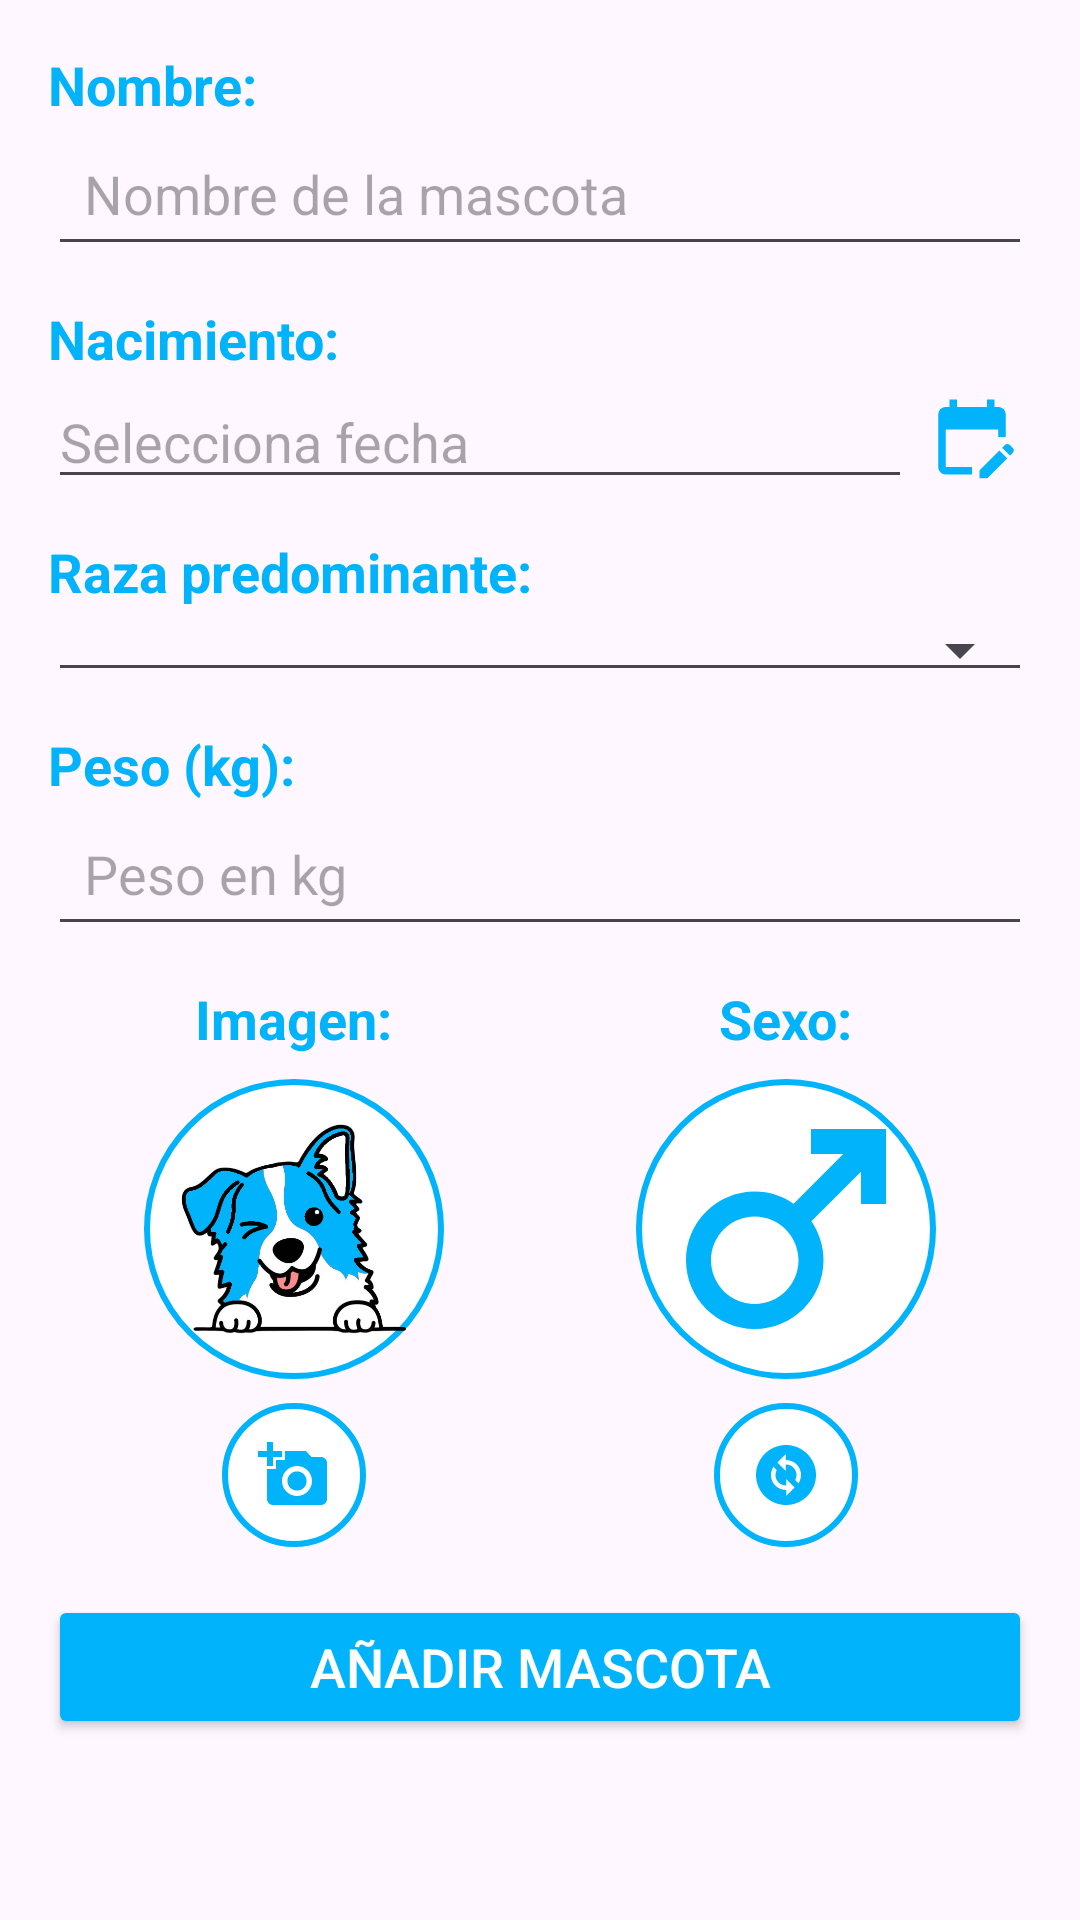

Where to tap for icons on this 1080px×1920px app screen, as (x,y):
Abrir calendario: (976,439)
add photo: (294,1475)
bordercollie: (294,1229)
male: (786,1229)
